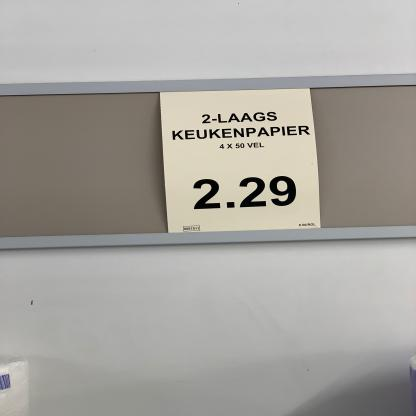prtg: (161, 89, 322, 234)
